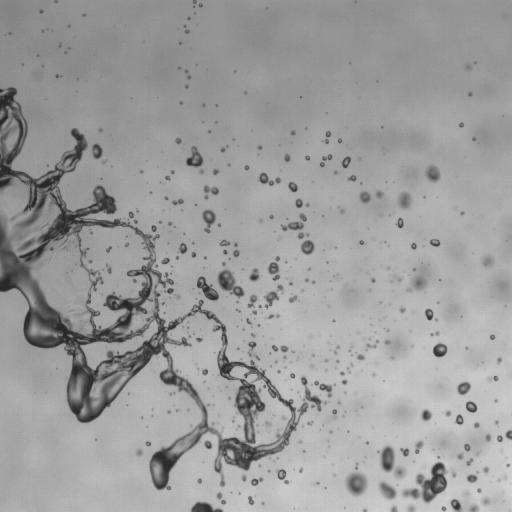droplet: (400, 460, 455, 503), (217, 269, 244, 298), (345, 463, 367, 496), (281, 213, 308, 238), (186, 146, 203, 167), (378, 480, 396, 499), (407, 276, 426, 292), (425, 165, 440, 182), (397, 192, 412, 209), (432, 342, 447, 357), (203, 185, 219, 199), (300, 240, 314, 254), (457, 381, 470, 395), (276, 469, 288, 484), (92, 144, 102, 159), (450, 499, 462, 511), (482, 254, 493, 267), (359, 191, 370, 203), (465, 401, 477, 412), (249, 268, 259, 281), (247, 294, 257, 307), (421, 409, 431, 421), (415, 440, 423, 453), (466, 474, 477, 483), (425, 308, 433, 320), (251, 477, 263, 485), (288, 182, 297, 192), (178, 243, 187, 253), (454, 414, 463, 424), (342, 156, 350, 167), (295, 198, 303, 207), (204, 440, 212, 449), (481, 497, 490, 505), (396, 218, 403, 228), (468, 504, 478, 511), (400, 448, 408, 456), (430, 239, 439, 246), (220, 240, 230, 246), (505, 429, 511, 439), (289, 295, 297, 302), (407, 504, 415, 511), (346, 364, 352, 373), (376, 190, 383, 197), (466, 458, 473, 465), (348, 175, 356, 181), (233, 249, 239, 257), (161, 258, 169, 264), (356, 354, 364, 360), (248, 496, 254, 504), (106, 264, 111, 273), (284, 154, 290, 161), (444, 410, 451, 416), (464, 444, 470, 451), (136, 449, 142, 456), (390, 505, 397, 511), (399, 307, 405, 313), (457, 453, 463, 459), (483, 467, 489, 473), (264, 421, 271, 426), (485, 434, 490, 441), (241, 474, 246, 481), (431, 331, 439, 335), (175, 138, 181, 143), (151, 225, 156, 231), (411, 243, 416, 249), (196, 337, 202, 342), (202, 369, 207, 375), (342, 379, 347, 385), (474, 422, 479, 428), (497, 435, 502, 441), (213, 169, 218, 174), (165, 175, 170, 180), (106, 247, 111, 252), (191, 252, 196, 257), (251, 309, 256, 314), (246, 319, 251, 324), (501, 474, 506, 479), (129, 212, 133, 218), (497, 357, 501, 363), (466, 65, 471, 69), (257, 145, 262, 149), (305, 155, 309, 160), (244, 165, 249, 169), (340, 208, 344, 213), (396, 277, 401, 281), (490, 334, 494, 339), (384, 340, 389, 344), (290, 373, 294, 378), (307, 421, 312, 425), (145, 441, 150, 445), (459, 123, 463, 127), (359, 240, 363, 244), (371, 278, 375, 282), (175, 294, 179, 298), (340, 371, 344, 375), (476, 451, 480, 455), (197, 479, 201, 483), (477, 488, 481, 492), (442, 506, 445, 511), (185, 29, 188, 33), (468, 93, 472, 96), (98, 128, 102, 131), (221, 148, 225, 151), (134, 219, 137, 223), (125, 242, 128, 246), (223, 250, 226, 254), (236, 309, 240, 312), (251, 333, 255, 336), (310, 364, 313, 368), (299, 468, 302, 472), (187, 75, 190, 78), (291, 131, 294, 134), (338, 139, 341, 142), (171, 170, 174, 173), (200, 170, 203, 173), (334, 171, 337, 174), (306, 203, 309, 206), (460, 211, 463, 214), (270, 215, 273, 218), (168, 222, 171, 225), (222, 262, 225, 265), (305, 278, 308, 281), (258, 305, 261, 308), (325, 359, 328, 362), (372, 373, 375, 376), (495, 421, 498, 424), (236, 425, 239, 428), (465, 492, 468, 495), (363, 509, 367, 511), (54, 0, 57, 2), (193, 0, 196, 2), (199, 4, 202, 6), (40, 10, 42, 13), (185, 85, 188, 87), (103, 160, 105, 163), (90, 230, 92, 233), (234, 243, 237, 245), (89, 260, 91, 263), (337, 345, 339, 348), (277, 370, 280, 372), (299, 440, 301, 443), (366, 441, 368, 444), (185, 70, 187, 72), (57, 75, 59, 77), (472, 138, 474, 140), (140, 170, 142, 172), (165, 197, 167, 199), (259, 220, 261, 222), (218, 224, 220, 226), (334, 351, 336, 353), (284, 356, 286, 358), (391, 357, 393, 359), (495, 399, 497, 401), (232, 418, 234, 420), (316, 482, 318, 484), (509, 510, 511, 511)
ligament: (0, 88, 325, 490), (378, 445, 406, 479), (197, 276, 219, 301), (264, 284, 283, 308), (190, 501, 223, 511), (202, 209, 215, 233), (313, 381, 333, 396), (258, 172, 281, 185), (268, 256, 279, 280), (248, 341, 259, 359), (320, 154, 332, 166), (365, 340, 378, 349), (272, 345, 288, 352), (216, 492, 225, 504), (323, 131, 331, 143), (172, 199, 183, 205), (267, 313, 279, 318), (487, 376, 498, 380), (332, 409, 336, 419)
